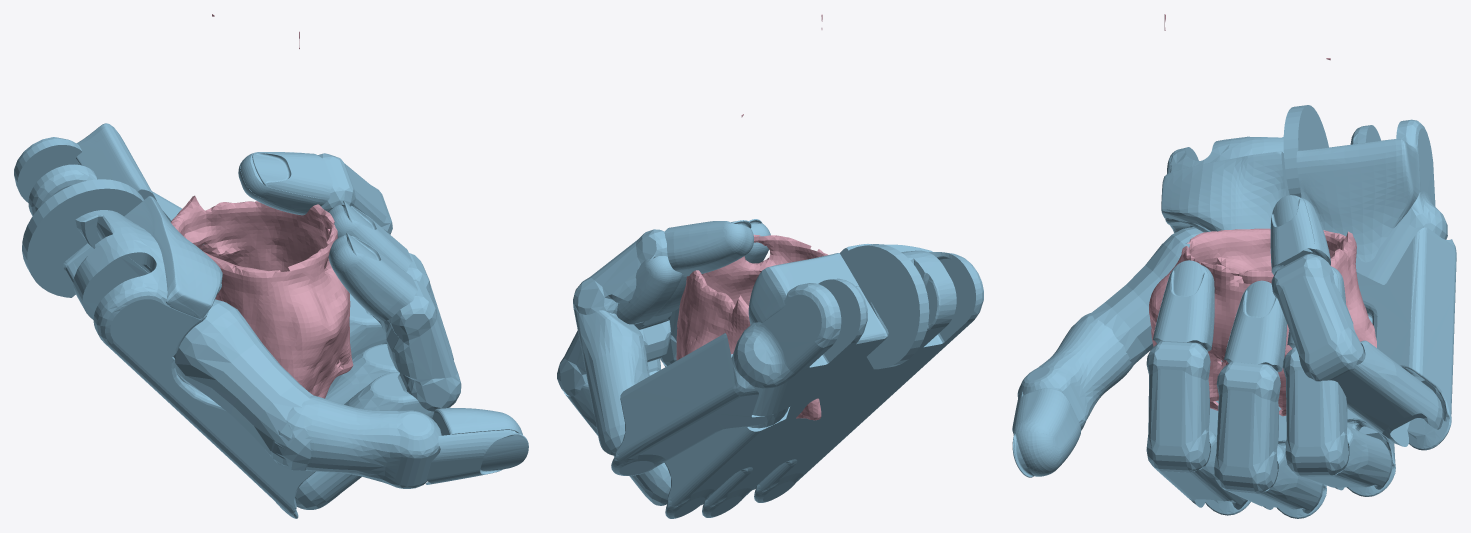
3 renders of one model, left to right at view 1: azimuth 30°, elevation 25°; view 2: azimuth 150°, elevation 25°; view 3: azimuth 270°, elevation 25°, orthographic. The views are drawn at different scales.
Visible parts, largest first — view 1: hand, world; view 2: hand, world; view 3: hand, world.
Boxes of the visible parts, left/top/right/bottom form: hand: left=14, top=123, right=528, bottom=518; world: left=170, top=14, right=353, bottom=398; hand: left=557, top=219, right=983, bottom=518; world: left=676, top=14, right=827, bottom=420; hand: left=1012, top=105, right=1456, bottom=518; world: left=1149, top=14, right=1376, bottom=416.
Bounding box in the file's own units: 0.1311 × 0.1633 × 0.1347.
